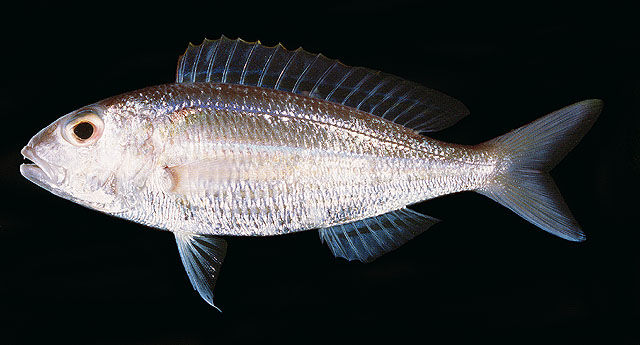fish: (18, 36, 603, 313)
